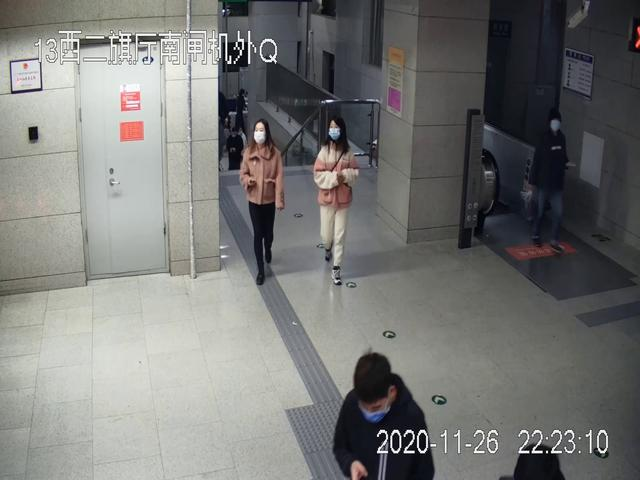person: (312, 115, 358, 285), (239, 118, 284, 284), (532, 112, 574, 254)
